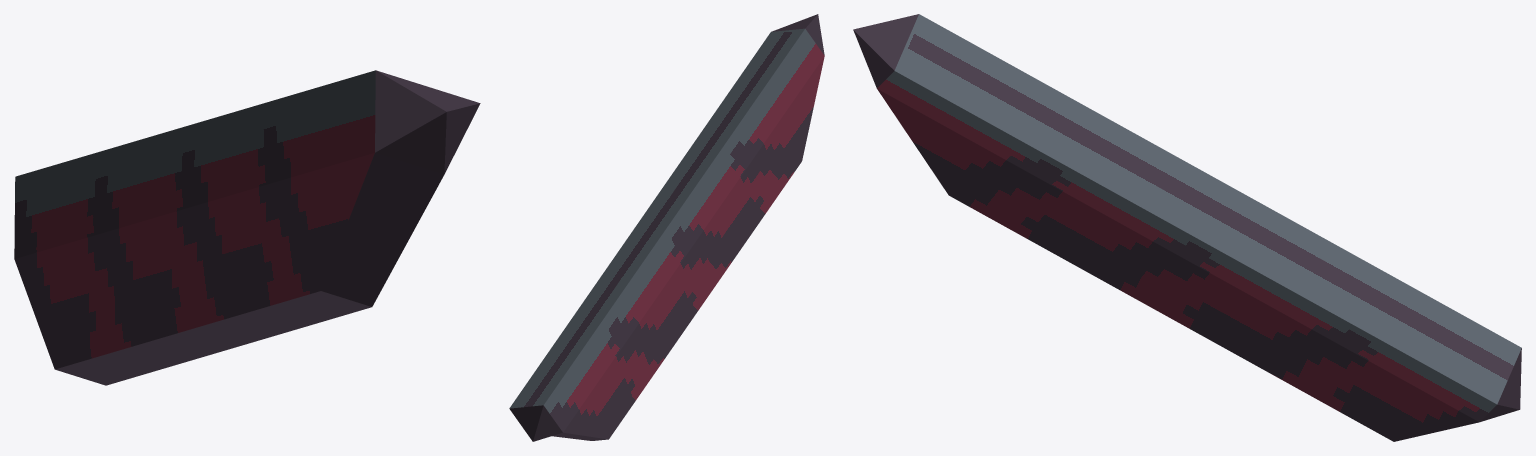
File: mantis_forearm.glb
3 views of the same model, side by side, from view 1: azimuth 30°, elevation 25°; view 2: azimuth 150°, elevation 25°; view 3: azimuth 270°, elevation 25° (orthographic). The views are drawn at different scales.
Visible parts, largest first — view 1: Cube.146; view 2: Cube.146; view 3: Cube.146.
Part boxes in pixels (x1,y1,x2,y2): Cube.146: (14, 70, 480, 385); Cube.146: (509, 14, 824, 441); Cube.146: (853, 14, 1521, 441).
Size of the model in its own units: 1.05 by 3.07 by 4.64.
1 material, 1 textured.
